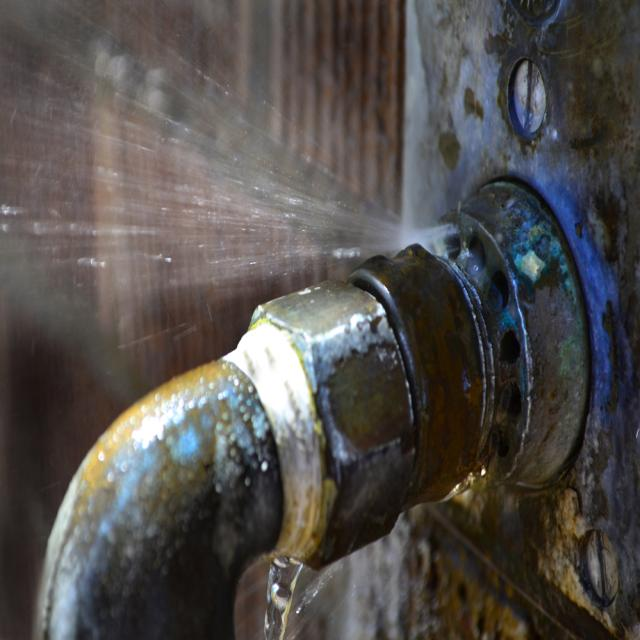leak: (0, 4, 401, 386)
